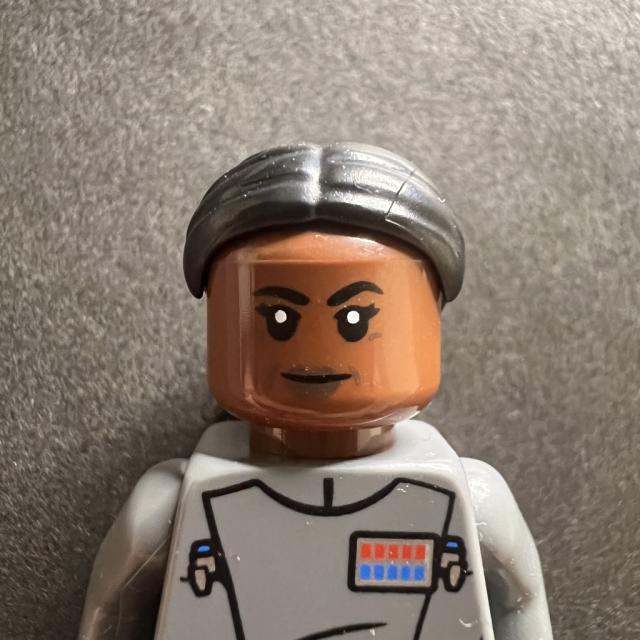lego: (180, 134, 467, 441)
